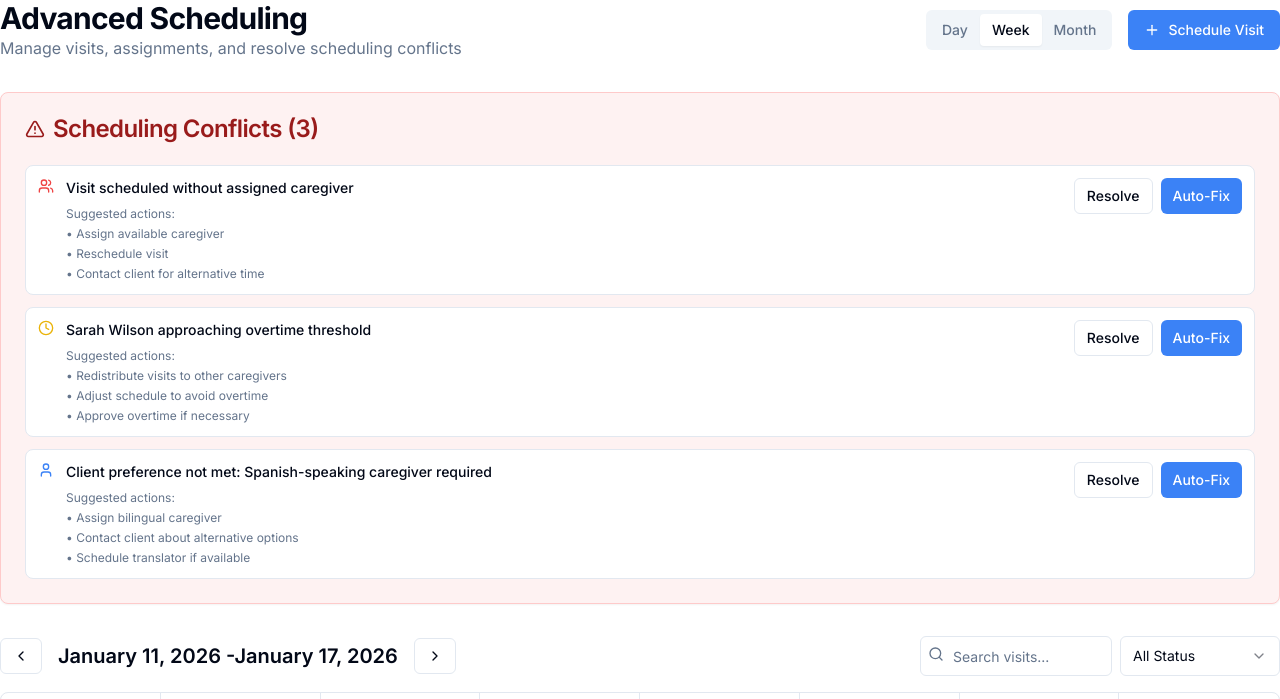
Test: AdvancedScheduling › opens schedule dialog when button is clicked
Click the button "Schedule Visit". click: (1204, 30)
box: [1128,10,1279,50]
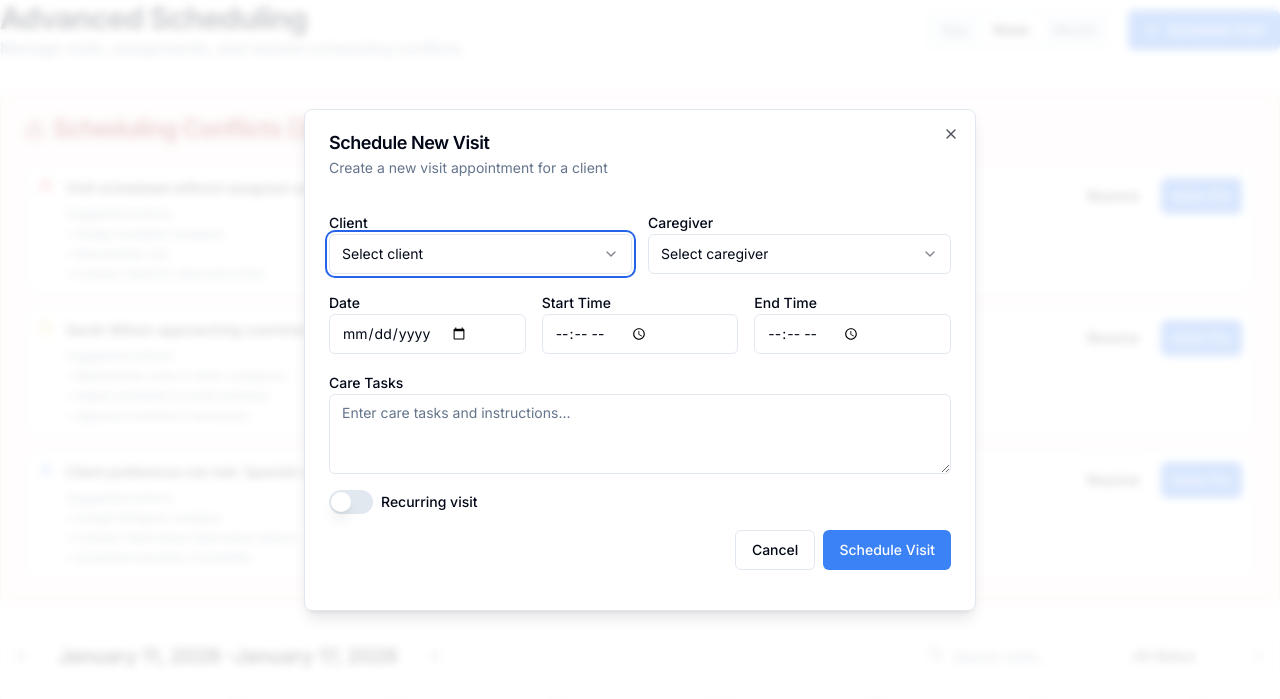
Check: the heading "Schedule New Visit" is shown, box [329,132,489,153]
